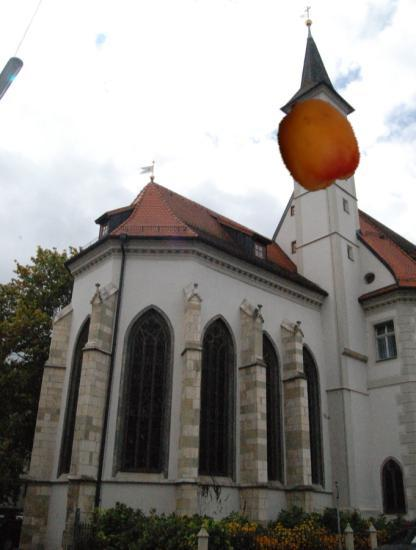Apricot: (270, 99, 363, 192)
